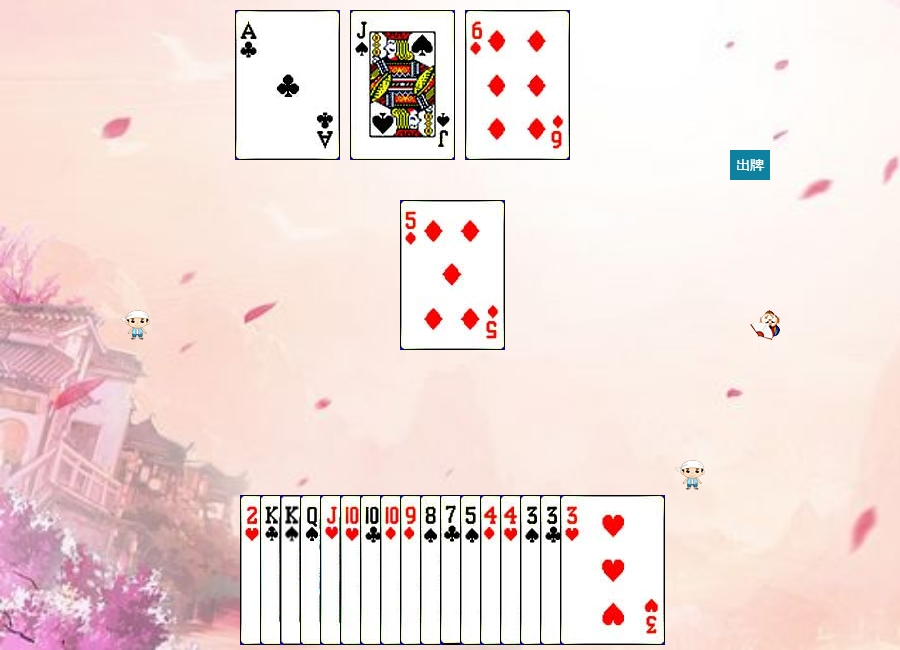10~1: (380, 495, 485, 645)
10~2: (360, 495, 465, 645)
10~3: (340, 495, 445, 645)
11~3: (320, 495, 425, 645)
11~4: (350, 10, 455, 160)
12~4: (300, 495, 405, 645)
13~2: (260, 495, 365, 645)
13~4: (280, 495, 385, 645)
14~2: (235, 10, 340, 160)
15~3: (240, 495, 345, 645)
3~2: (540, 495, 645, 645)
3~3: (560, 495, 665, 645)
3~4: (520, 495, 625, 645)
4~1: (480, 495, 585, 645)
4~3: (500, 495, 605, 645)
5~1: (400, 200, 505, 350)
5~4: (460, 495, 565, 645)
6~1: (465, 10, 570, 160)
7~2: (440, 495, 545, 645)
8~4: (420, 495, 525, 645)
9~1: (400, 495, 505, 645)
